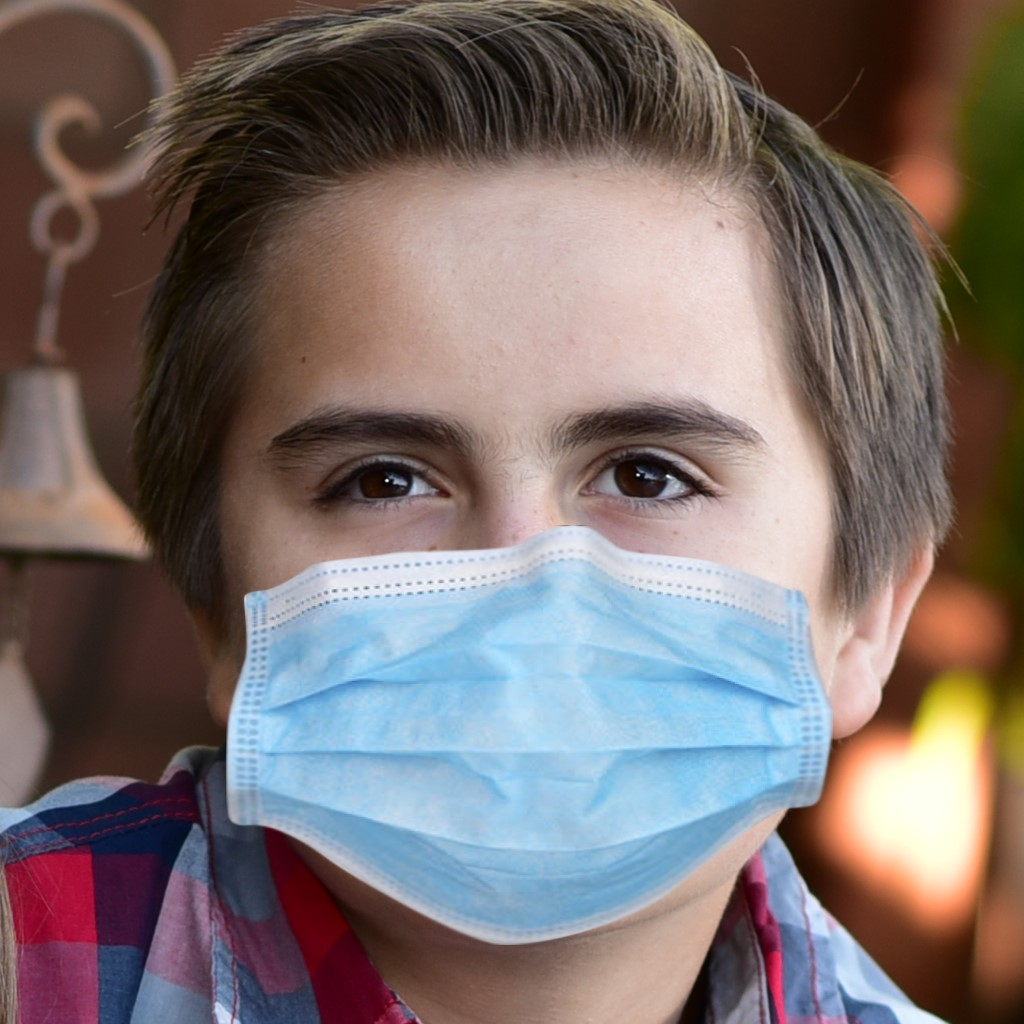con_mascara: (173, 111, 822, 934)
